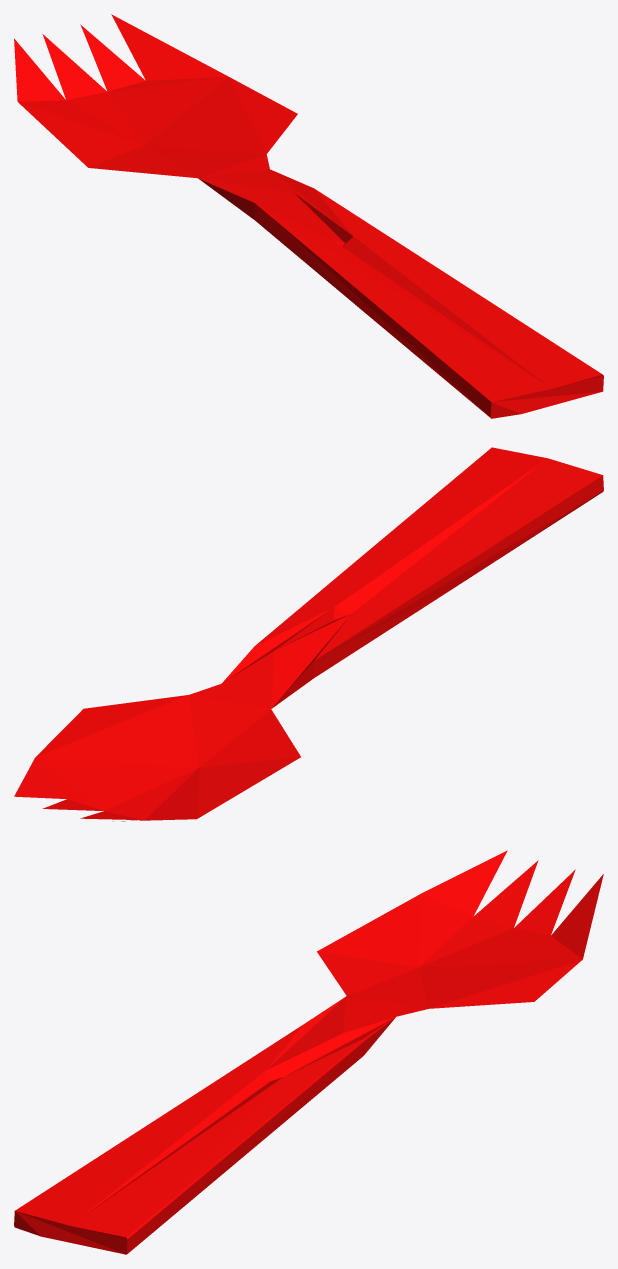
Rendered from fork.fbx.
3 renders of one model, top to bottom at view 1: azimuth 30°, elevation 25°; view 2: azimuth 150°, elevation 25°; view 3: azimuth 330°, elevation 25°, orthographic.
Parts seen in each view (by area): view 1: fork; view 2: fork; view 3: fork.
Boxes of the visible parts, x1=… form: fork: x1=14, y1=14, x2=603, y2=418; fork: x1=14, y1=447, x2=603, y2=821; fork: x1=14, y1=850, x2=603, y2=1254.
Bounding box in the file's own units: 2.21 × 0.4075 × 8.75.
